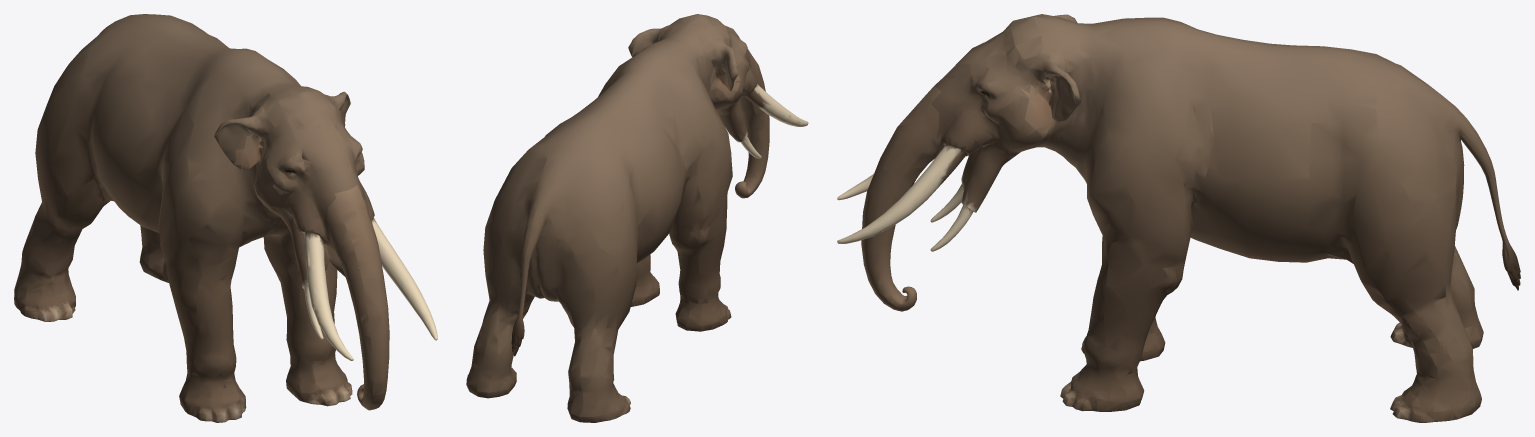
3 views of the same model, side by side, from view 1: azimuth 30°, elevation 25°; view 2: azimuth 150°, elevation 25°; view 3: azimuth 270°, elevation 25° (orthographic). The views are drawn at different scales.
Visible parts, largest first — view 1: Gomphotherium_aff_steinheimense; view 2: Gomphotherium_aff_steinheimense; view 3: Gomphotherium_aff_steinheimense.
Boxes of the visible parts, x1,y1,x2,y2 form: Gomphotherium_aff_steinheimense: (14,14,437,422); Gomphotherium_aff_steinheimense: (466,14,808,422); Gomphotherium_aff_steinheimense: (837,14,1520,422).
Size of the model in its own units: 0.7122 by 1.2 by 2.07.
